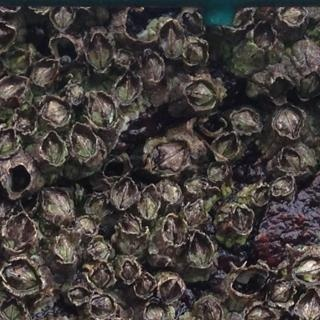Barnacle: (151, 140, 195, 175), (1, 256, 40, 292), (5, 214, 33, 250), (109, 178, 137, 214), (272, 106, 301, 140), (116, 70, 144, 103), (158, 21, 183, 56), (189, 231, 213, 267), (86, 33, 110, 69), (89, 94, 115, 126), (42, 190, 70, 219), (211, 133, 239, 162), (70, 126, 93, 160), (186, 81, 212, 110), (41, 134, 63, 167), (230, 109, 260, 133), (137, 185, 159, 217), (296, 257, 320, 286), (141, 54, 165, 83), (268, 279, 295, 304), (253, 20, 274, 51), (163, 215, 182, 249), (297, 292, 320, 320), (33, 60, 61, 83), (231, 205, 253, 233), (184, 200, 205, 229), (44, 99, 69, 123), (89, 294, 115, 317), (161, 177, 182, 205), (91, 264, 113, 290), (280, 147, 302, 173), (185, 40, 209, 63), (205, 163, 230, 185), (0, 76, 26, 97), (182, 10, 203, 36), (56, 233, 75, 261), (86, 193, 106, 218), (300, 71, 320, 96), (120, 215, 143, 236), (53, 5, 74, 28), (0, 128, 17, 156), (159, 278, 180, 300), (280, 1, 301, 23), (202, 297, 222, 320), (9, 53, 31, 73), (135, 275, 154, 298), (89, 237, 110, 257), (15, 109, 35, 130), (270, 175, 292, 194), (68, 80, 83, 106), (247, 306, 273, 320), (120, 261, 138, 281), (69, 287, 90, 304), (186, 178, 207, 195), (0, 302, 19, 320), (251, 184, 267, 205), (76, 218, 94, 236), (143, 303, 162, 320), (115, 51, 134, 66)
